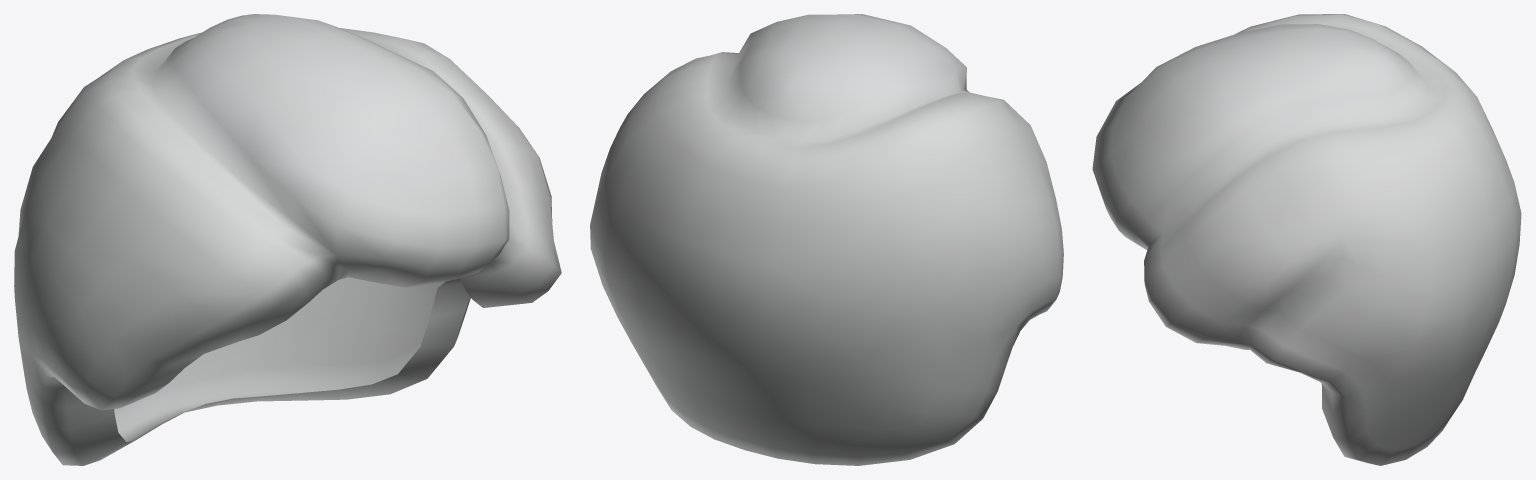
File: Hairstyle_Male_01.glb
3 renders of one model, left to right at view 1: azimuth 30°, elevation 25°; view 2: azimuth 150°, elevation 25°; view 3: azimuth 270°, elevation 25°, orthographic. The views are drawn at different scales.
Visible parts, largest first — view 1: Hairstyle_Male_01; view 2: Hairstyle_Male_01; view 3: Hairstyle_Male_01.
Boxes of the visible parts, x1,y1,x2,y2 form: Hairstyle_Male_01: (14, 14, 561, 465); Hairstyle_Male_01: (590, 14, 1063, 465); Hairstyle_Male_01: (1092, 14, 1521, 465).
Bounding box in the file's own units: 0.6479 × 0.5452 × 0.5728.
Materials: 1 (1 with a texture image).
